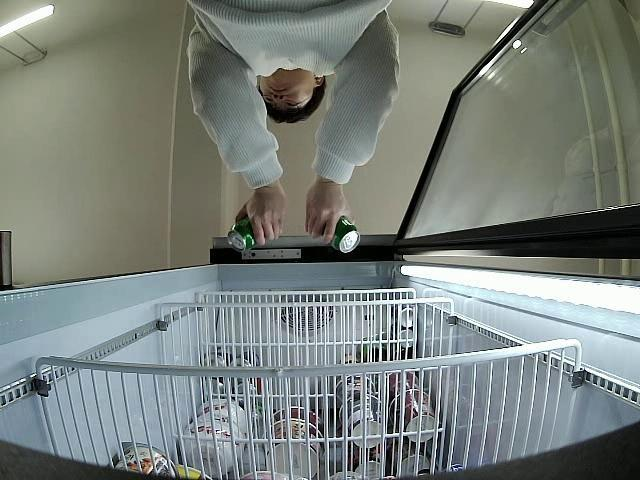12_chilsungCider: (320, 211, 360, 255), (229, 214, 260, 254)
